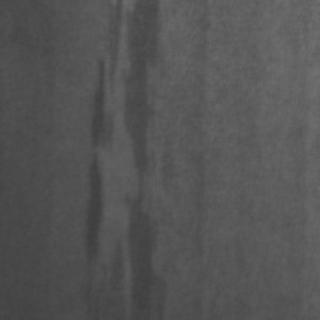inclusion: (82, 1, 166, 316), (186, 149, 220, 267)
